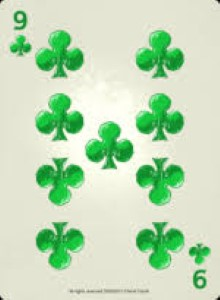NineOfClubs: (6, 2, 211, 290)
